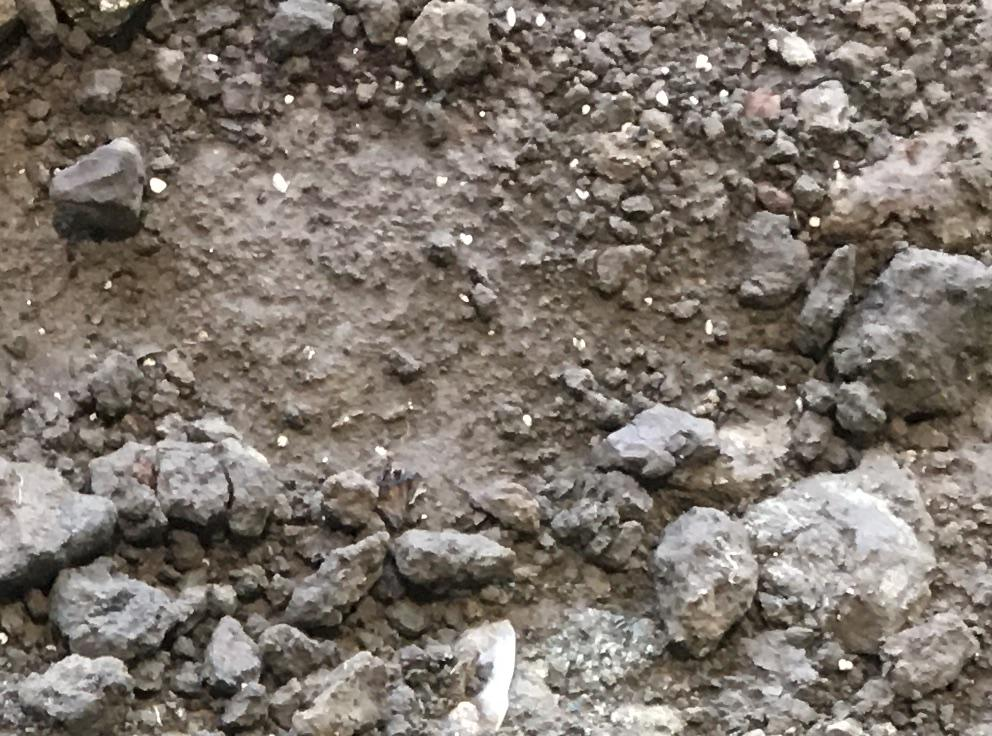block: (740, 452, 935, 656), (831, 240, 987, 418), (45, 553, 195, 665), (1, 464, 113, 592), (654, 498, 744, 655), (160, 442, 274, 547), (45, 144, 154, 235), (410, 2, 500, 88)
